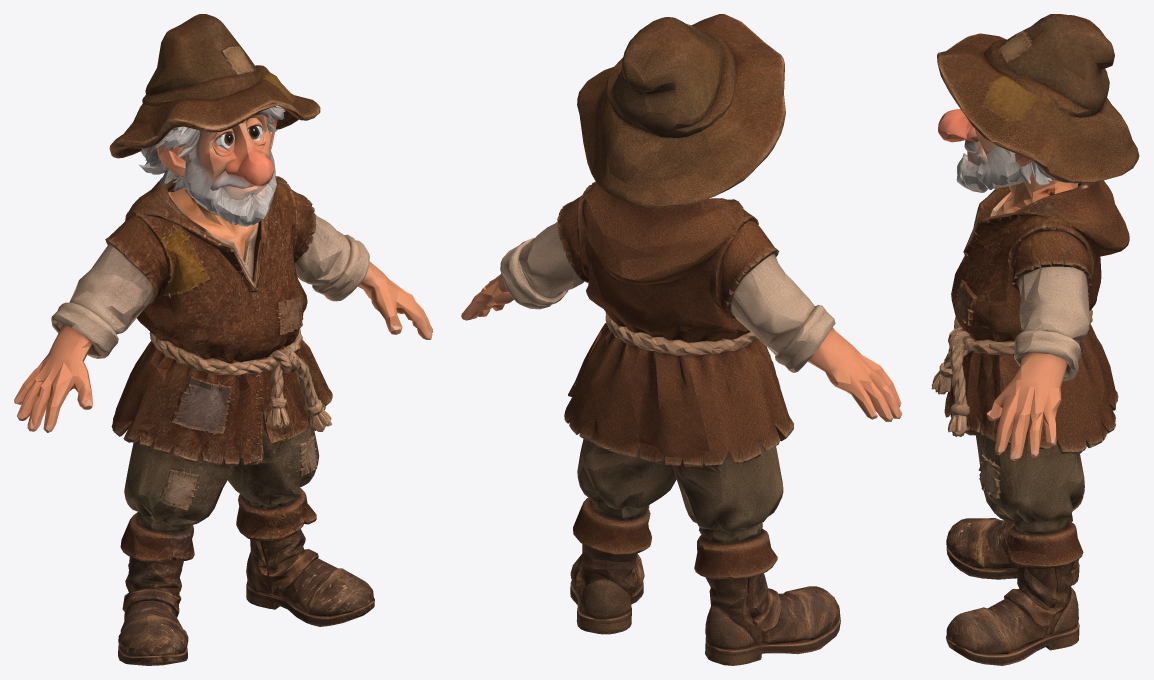
The model's file is wagon_driver.fbx.
3 views of the same model, side by side, from view 1: azimuth 30°, elevation 25°; view 2: azimuth 150°, elevation 25°; view 3: azimuth 270°, elevation 25° (orthographic). The views are drawn at different scales.
Visible parts, largest first — view 1: wagon_driver; view 2: wagon_driver; view 3: wagon_driver.
Boxes of the visible parts, x1,y1,x2,y2 form: wagon_driver: (14,14,432,665); wagon_driver: (461,14,902,665); wagon_driver: (931,14,1139,665).
Bounding box in the file's own units: 1.19 × 1.65 × 0.5244.
1 material, 1 textured.
